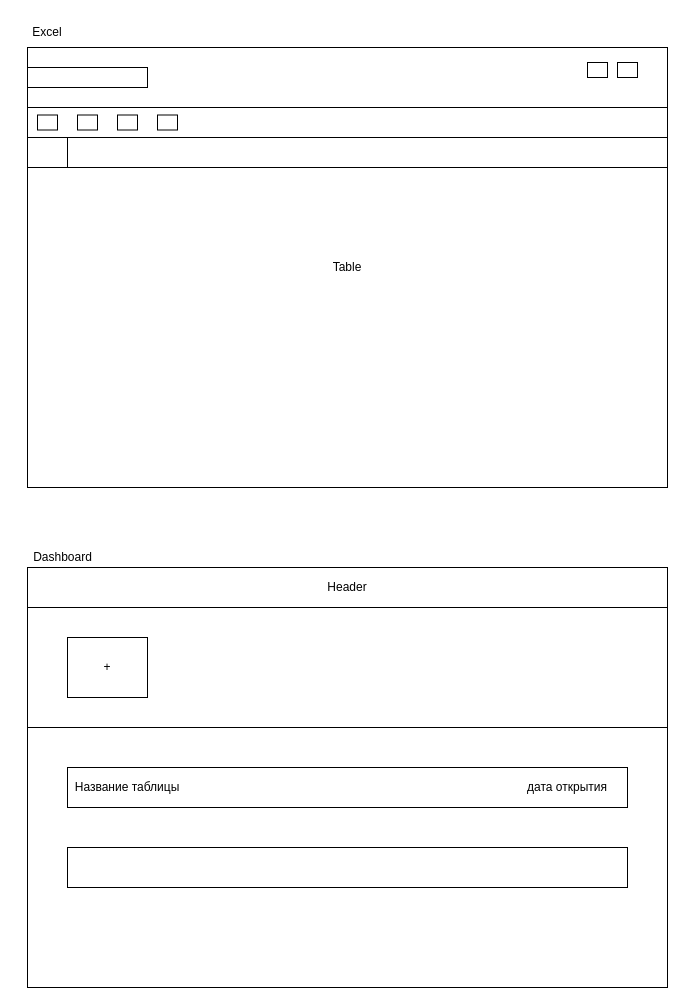
Image size: 685x1005. Some labels were removed from this diagram. Each missing label, with the centre of its shape:
fx: [47,152]
Название: [87,77]
